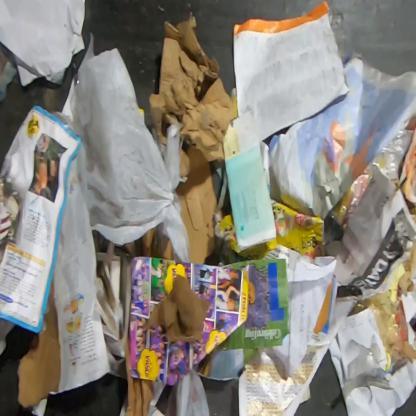cardboard: (147, 10, 237, 265), (224, 108, 278, 252), (16, 278, 61, 410), (124, 330, 153, 416), (124, 227, 174, 260)
soft_plastic: (51, 28, 191, 264), (328, 129, 414, 233), (347, 294, 405, 364), (164, 368, 212, 415), (346, 341, 381, 382)
